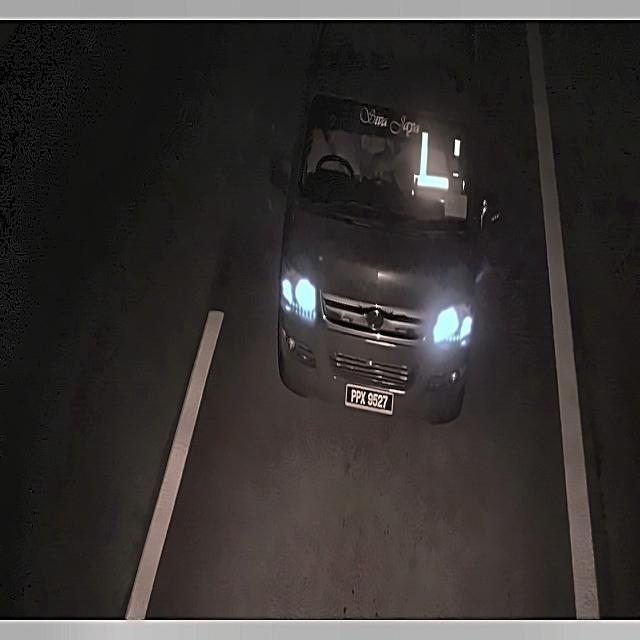car: (344, 381, 395, 417)
